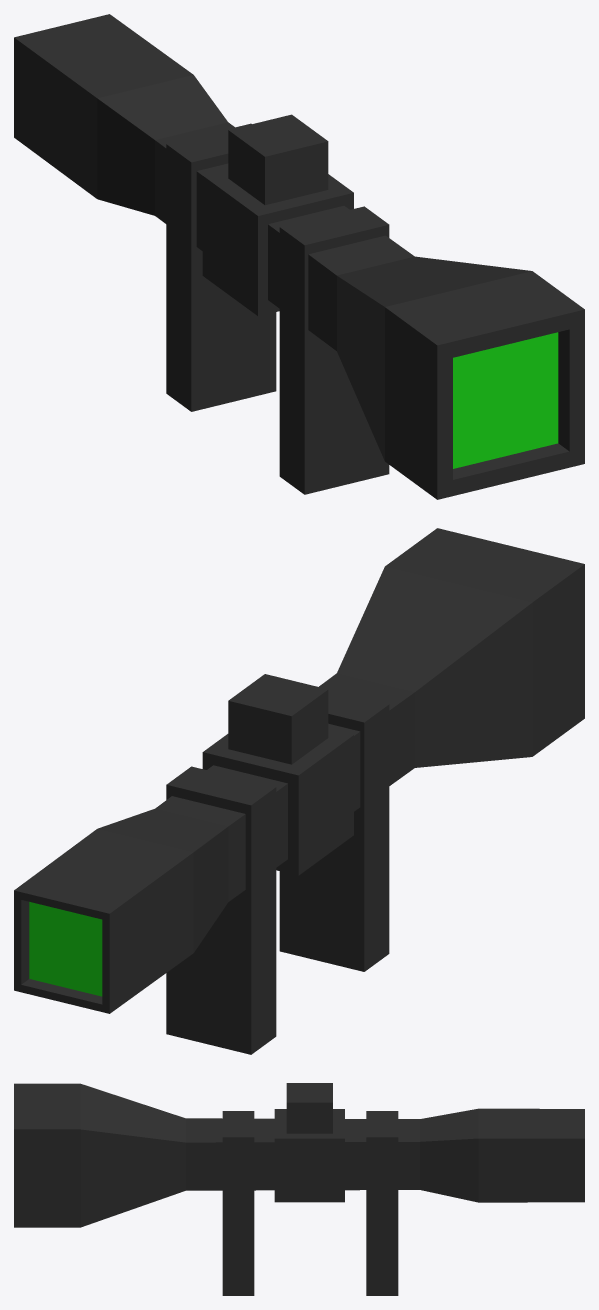
The model's file is 12x_Scope.fbx.
3 renders of one model, top to bottom at view 1: azimuth 30°, elevation 25°; view 2: azimuth 150°, elevation 25°; view 3: azimuth 270°, elevation 25°, orthographic. The views are drawn at different scales.
Parts seen in each view (by area): view 1: 12x Scope; view 2: 12x Scope; view 3: 12x Scope.
Boxes of the visible parts, x1,y1,x2,y2 form: 12x Scope: (14, 14, 584, 499); 12x Scope: (14, 528, 584, 1054); 12x Scope: (14, 1083, 584, 1295).
Bounding box in the file's own units: 5.67 × 10.97 × 29.92.
